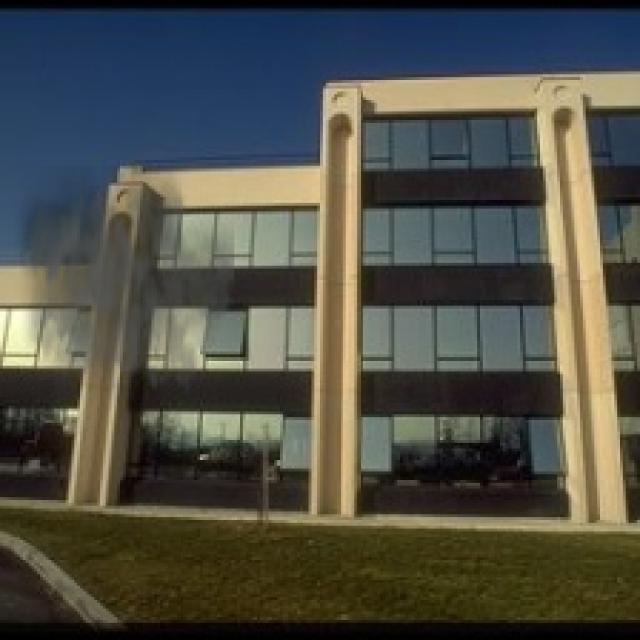smoke: (9, 166, 234, 420)
